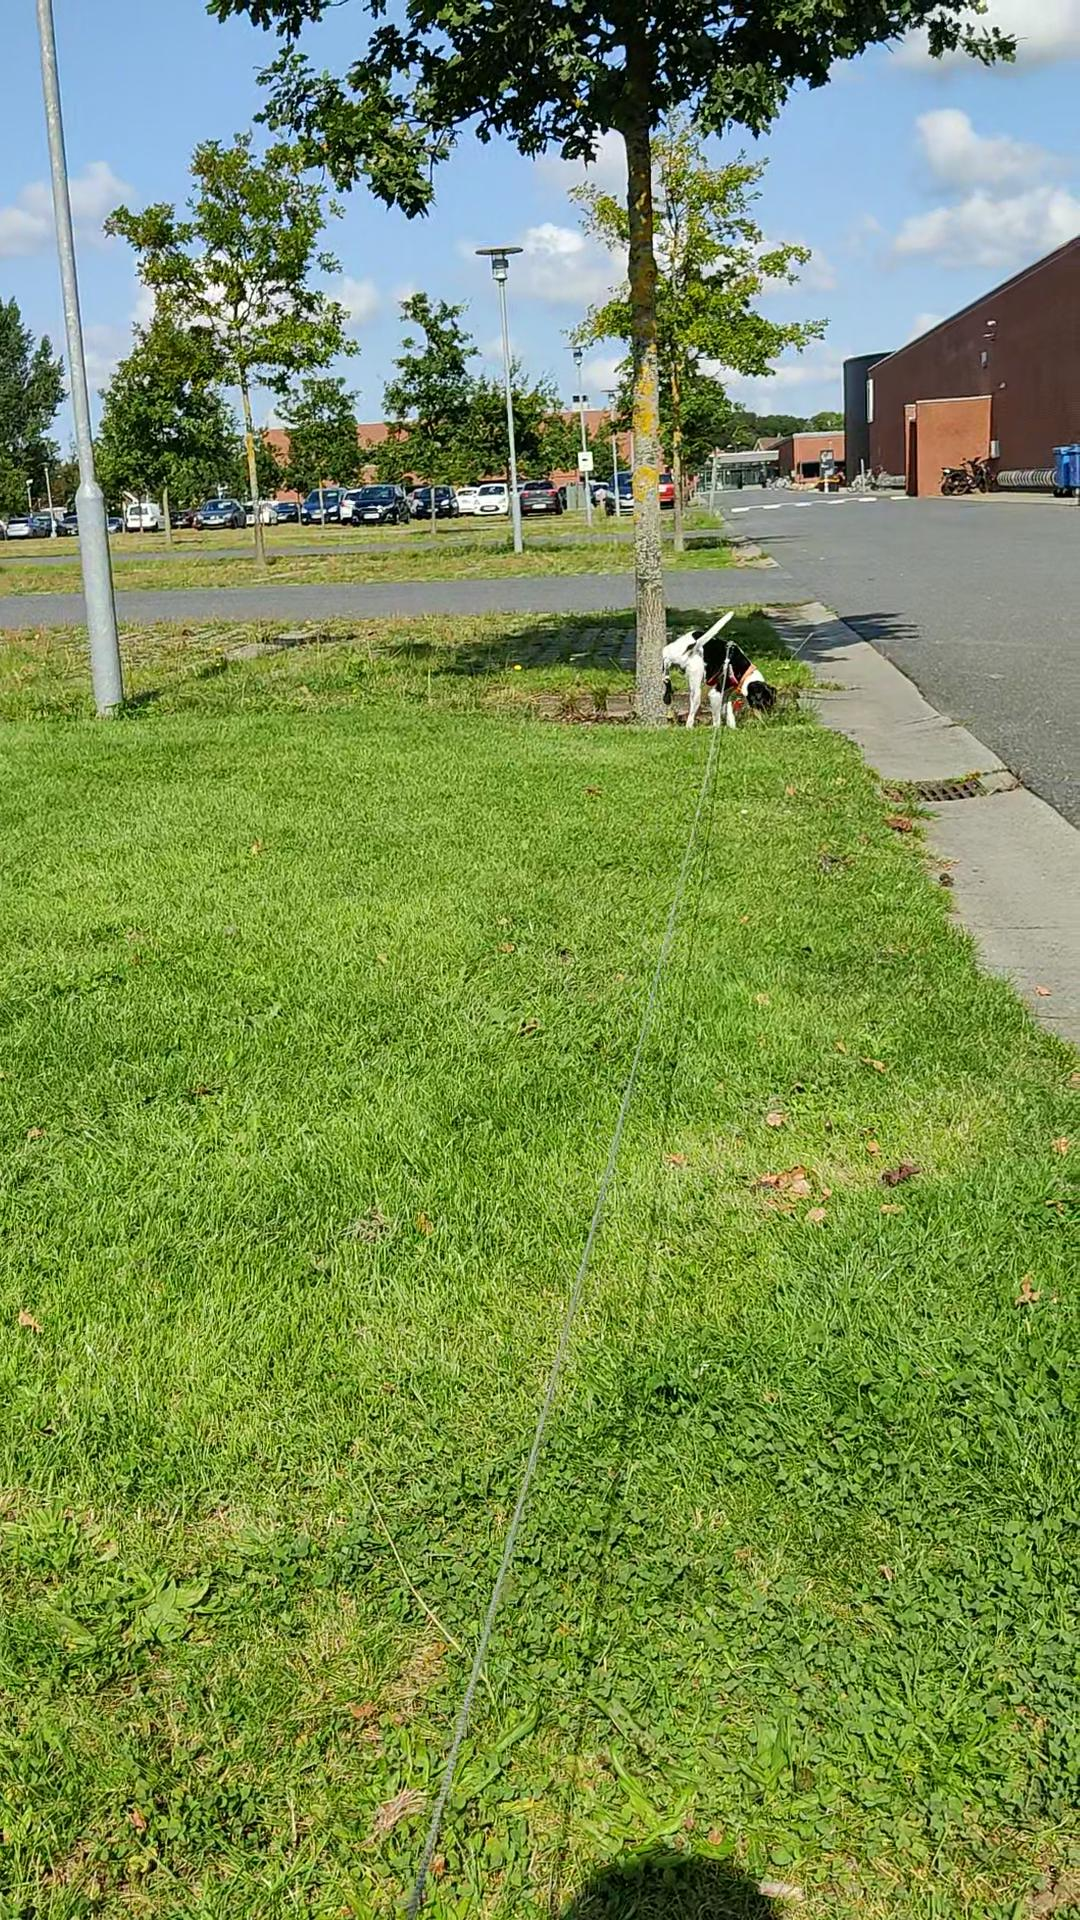Dog: (658, 607, 781, 729)
